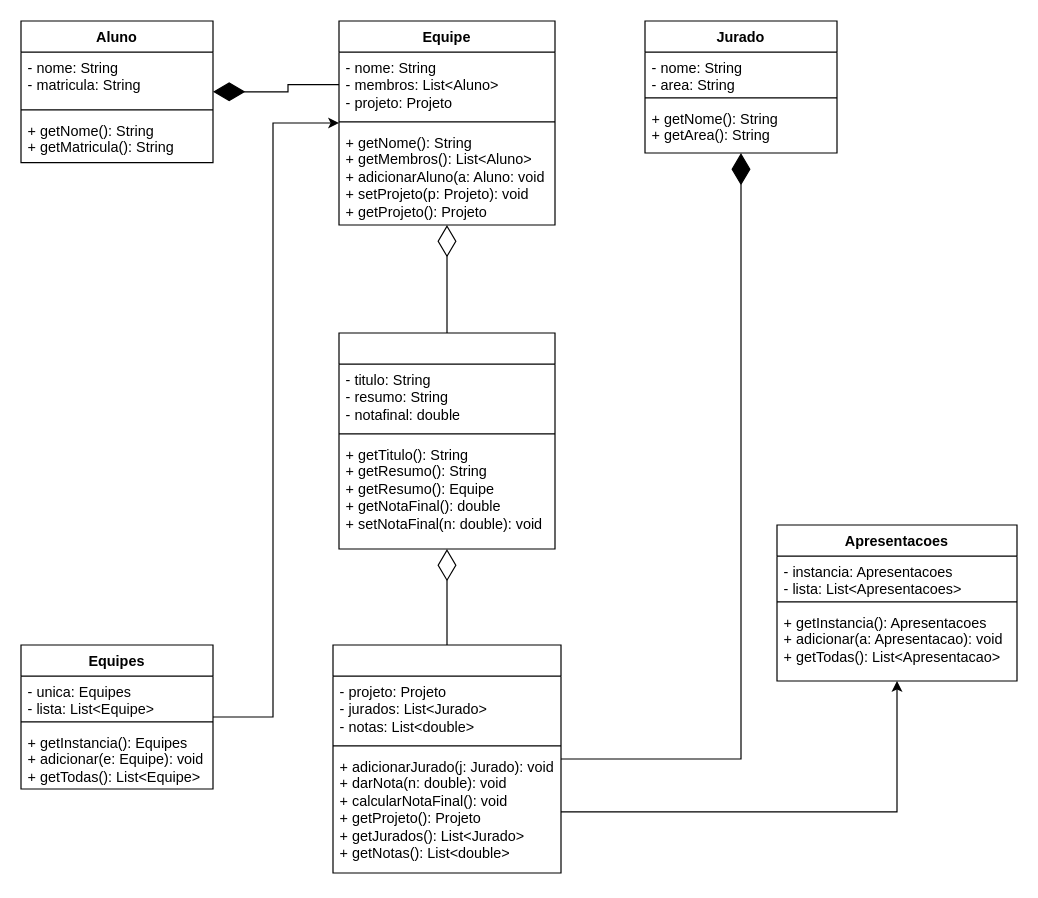
Image size: 1038x898. Some labels were removed from this diagram. Each missing label, with the box of its shape:
Apresentacao: (332, 644, 561, 873)
Projeto: (338, 332, 555, 549)
